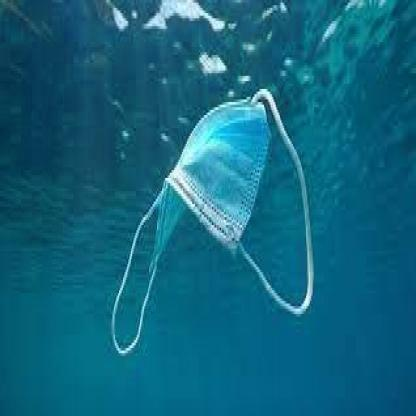Mask: (107, 81, 314, 364)
